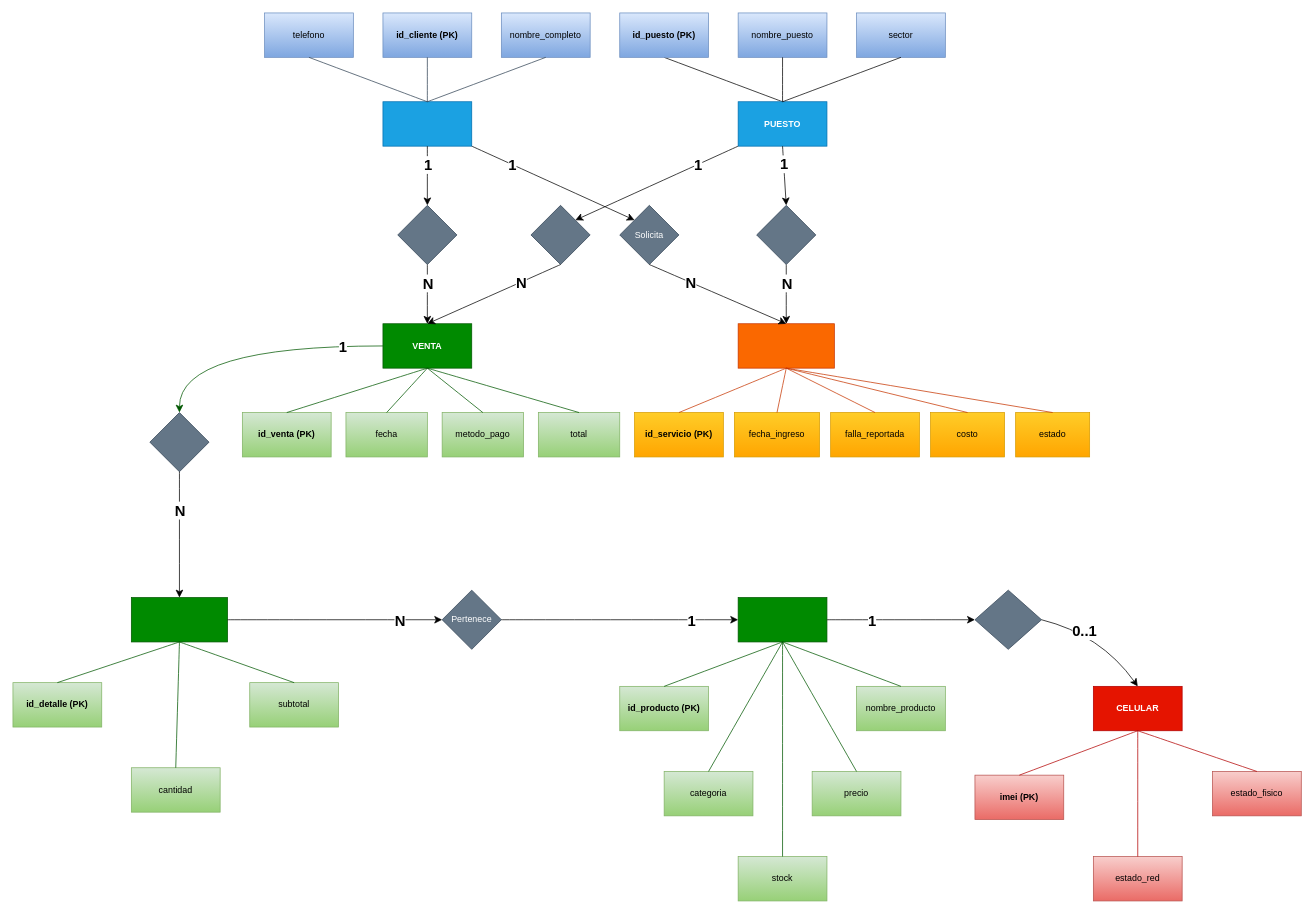
The diagram is 1314 pixels wide and 914 high, and some of its shapes have lost their labels. Here are the shapes that lost their labels. From the top down, the box of each, then its label:
(382, 101, 472, 146): CLIENTE
(397, 205, 457, 265): Realiza
(530, 205, 590, 265): Emite
(756, 205, 816, 265): Atiende
(737, 323, 834, 368): SERVICIO_TECNICO
(149, 412, 209, 472): Contiene
(131, 597, 228, 642): DETALLE_VENTA
(737, 597, 827, 642): PRODUCTO
(974, 589, 1042, 649): Corresponde
